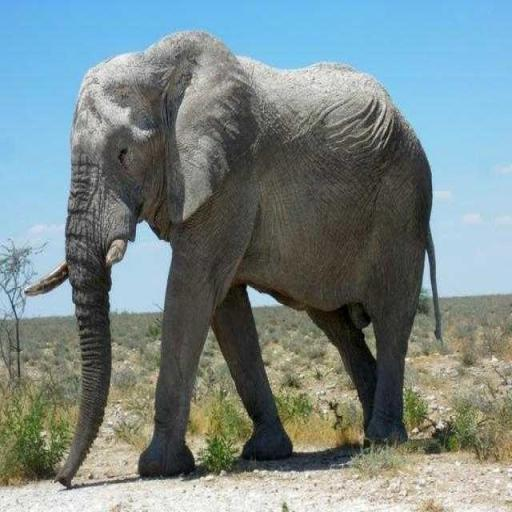Elephant: (23, 28, 443, 490)
